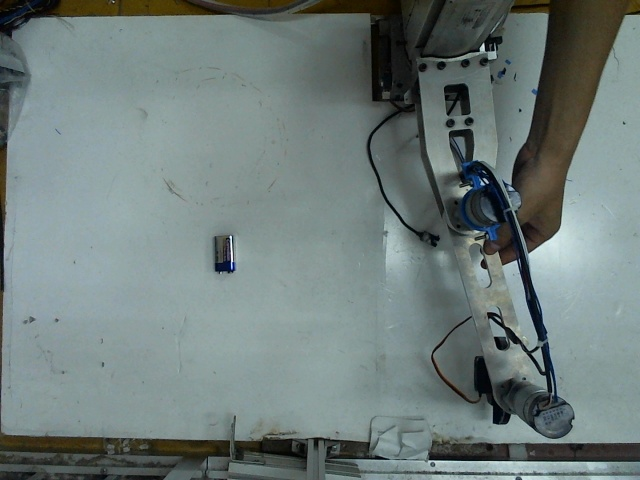battery: (206, 231, 241, 276)
